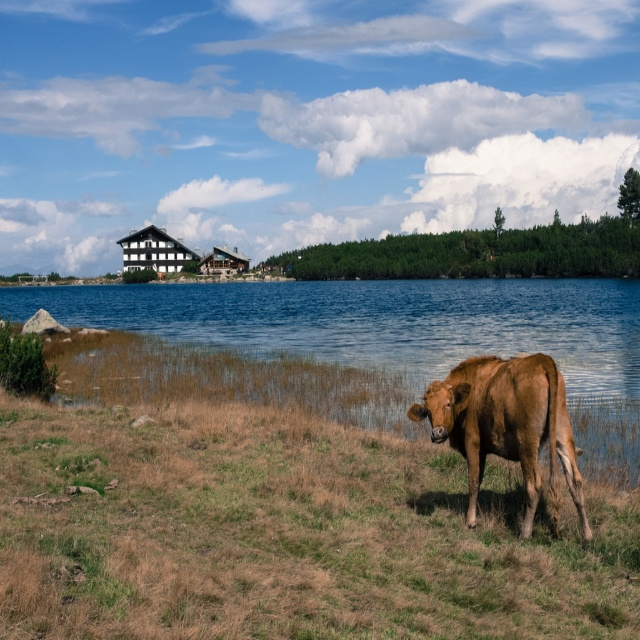Cattle: (404, 350, 594, 546)
